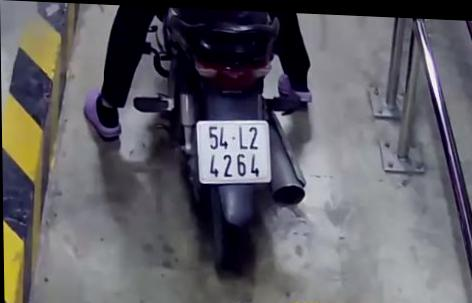License_Plate: (192, 114, 279, 191)
